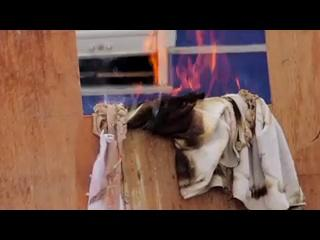Fire: (139, 29, 247, 97)
